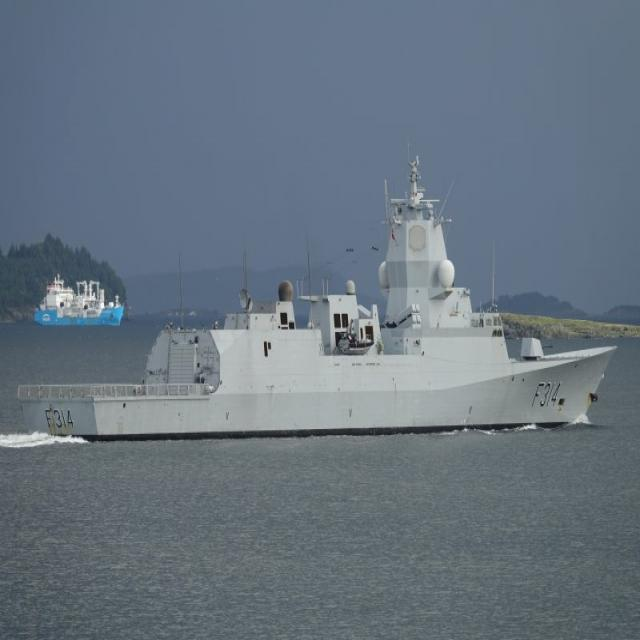Fragata: (17, 142, 623, 445)
